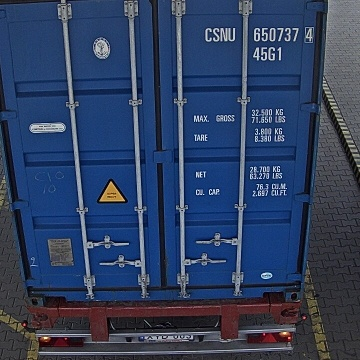serial_id: (205, 27, 313, 41)
